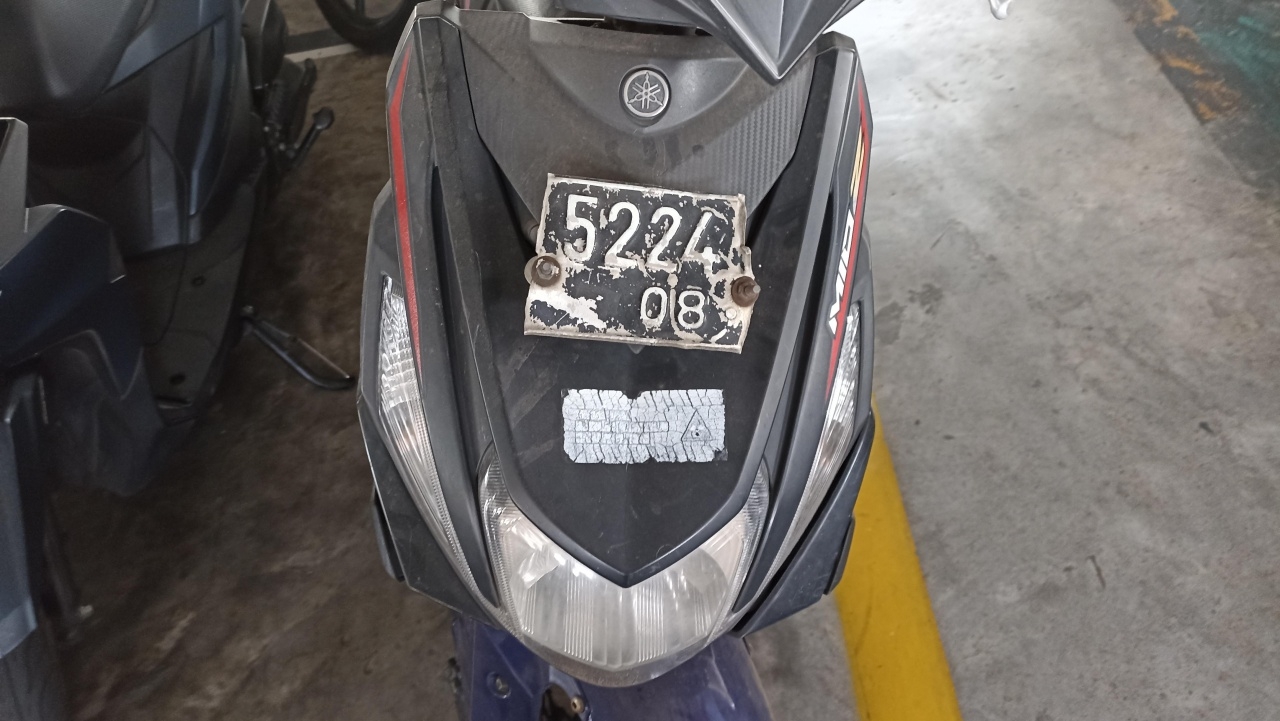plate: (522, 174, 755, 353)
